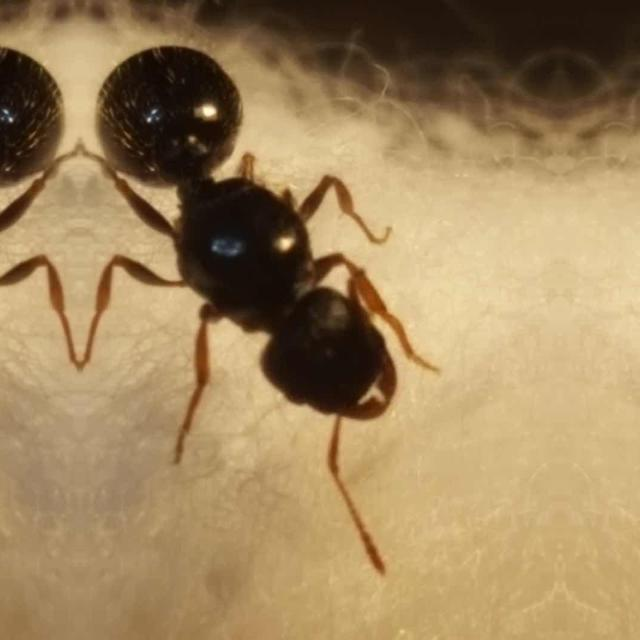Tetramorium: (78, 5, 450, 539), (0, 5, 78, 539)
